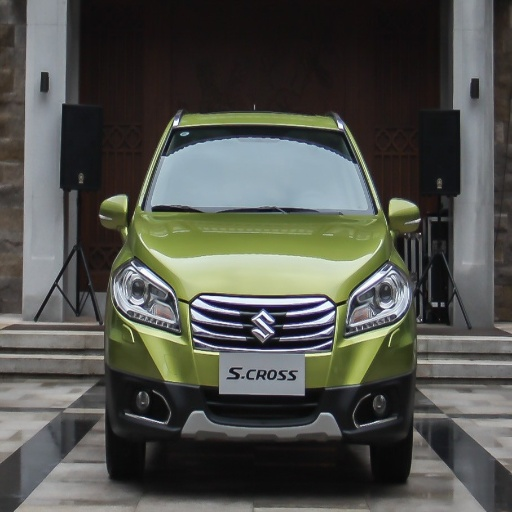front_bumper: (106, 301, 408, 443)
front_right_light: (113, 260, 182, 338)
hood: (134, 211, 387, 303)
